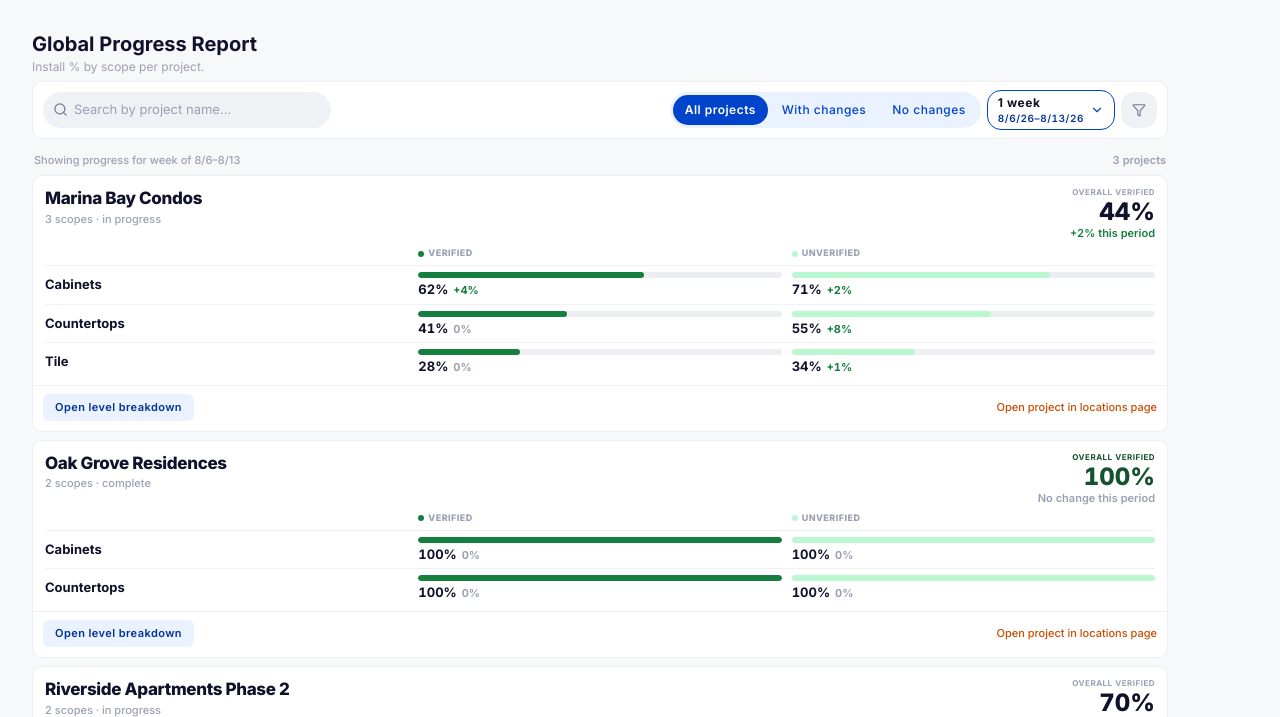
Test case: PortfolioProgressWireframe › filters projects by search query on name
The width and height of the screenshot is (1280, 717).
expect the heading "Marina Bay Condos" is shown: met, box [45,188,202,208]
Type "marina" into the search field named "Search projects". click: (196, 110)
box: [74,100,319,120]
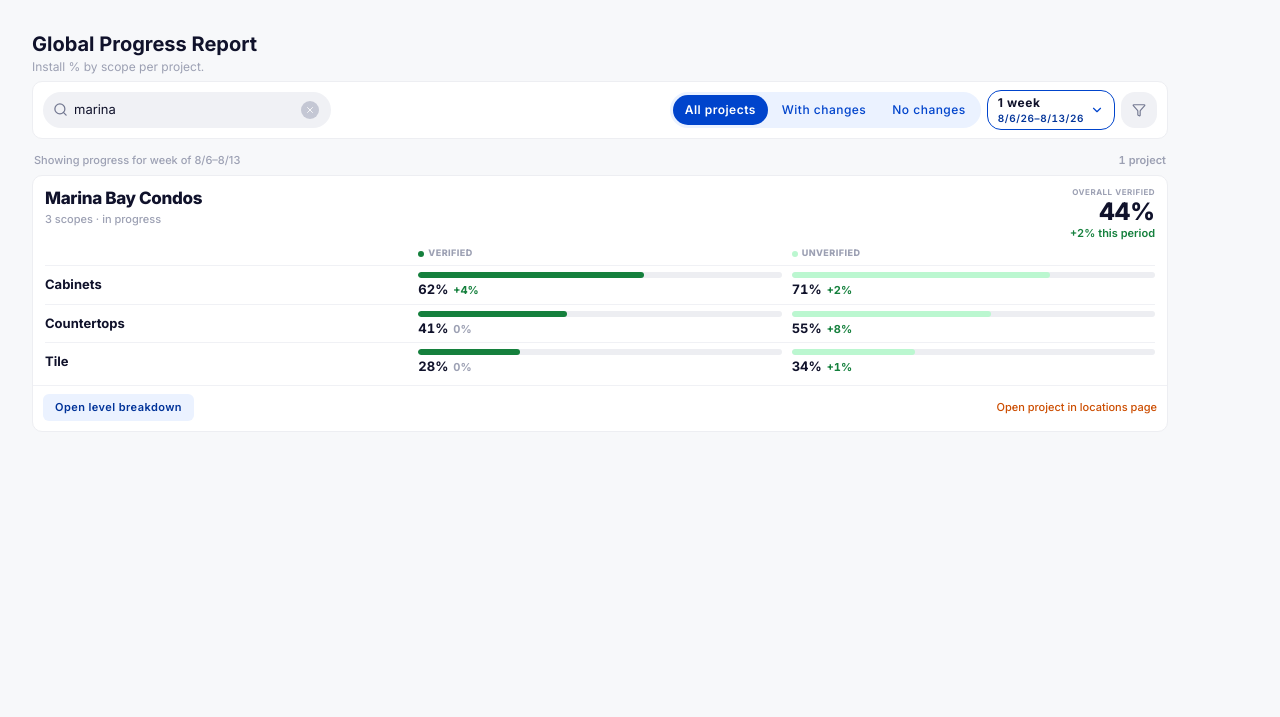
expect the heading "Marina Bay Condos" is shown: met, box [45,188,202,208]
expect the heading "Oak Grove Residences" is gone: met
expect the heading "Riverside Apartments Phase 2" is gone: met
